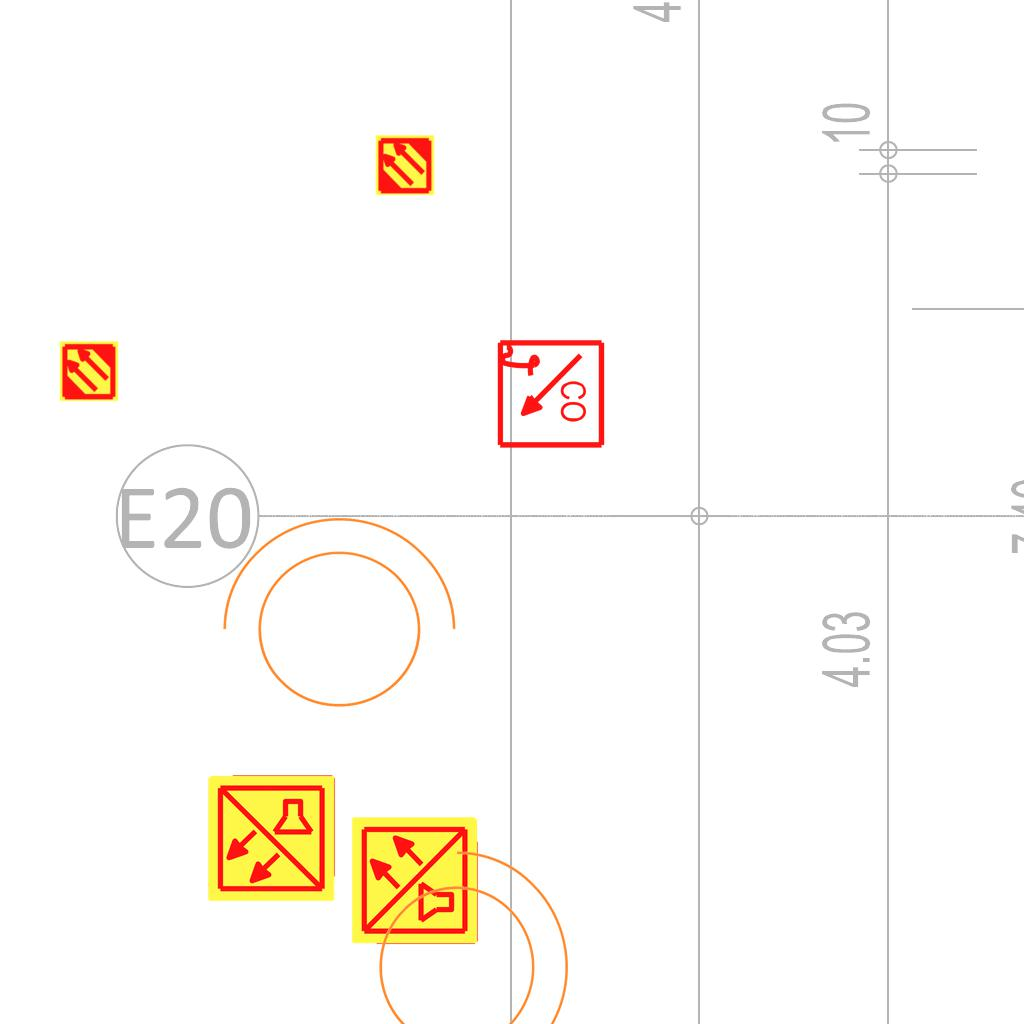ASR_Ansaugrauchmelder: (374, 134, 436, 196), (58, 340, 120, 402)
OKW_Multisensormelder_(Kombination_optischer_Rauch-Kahlenmonoxid_Waerme-Melder): (205, 772, 337, 904), (349, 814, 481, 946)
ROA_Rauchmelder_optisch_mit_Signalgeber_(Sockelsirene): (493, 338, 606, 451)
Scheinwerfer_fuer_Alarmbeleuchtung: (201, 507, 465, 732), (354, 829, 579, 1024)
